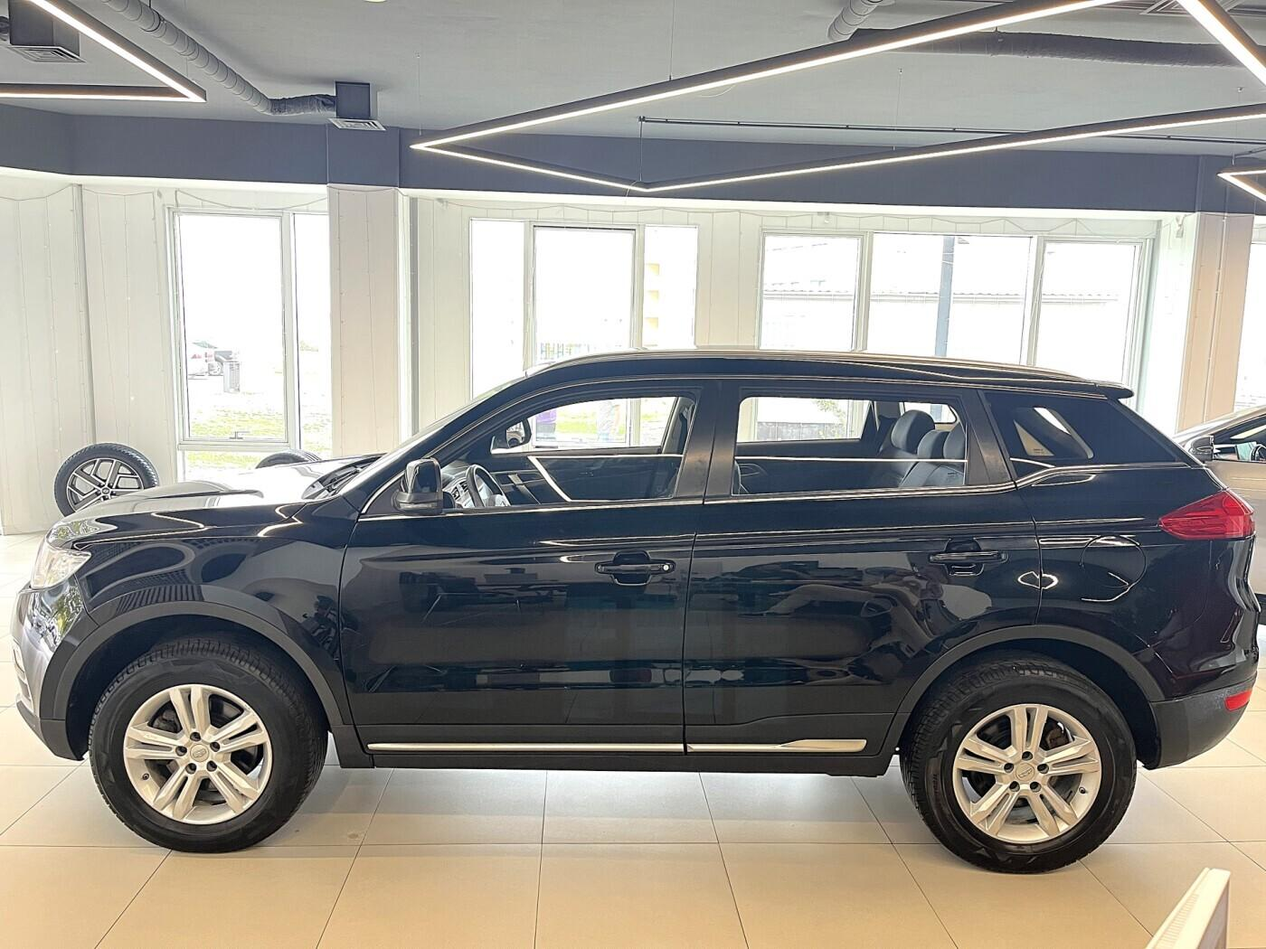Atlas_2016-2023: (4, 343, 1265, 879)
